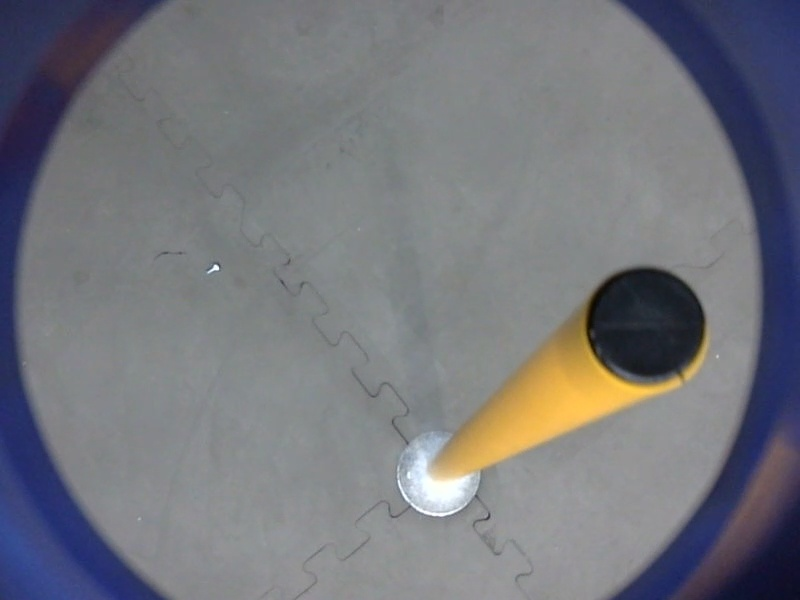tip: (580, 261, 715, 397)
